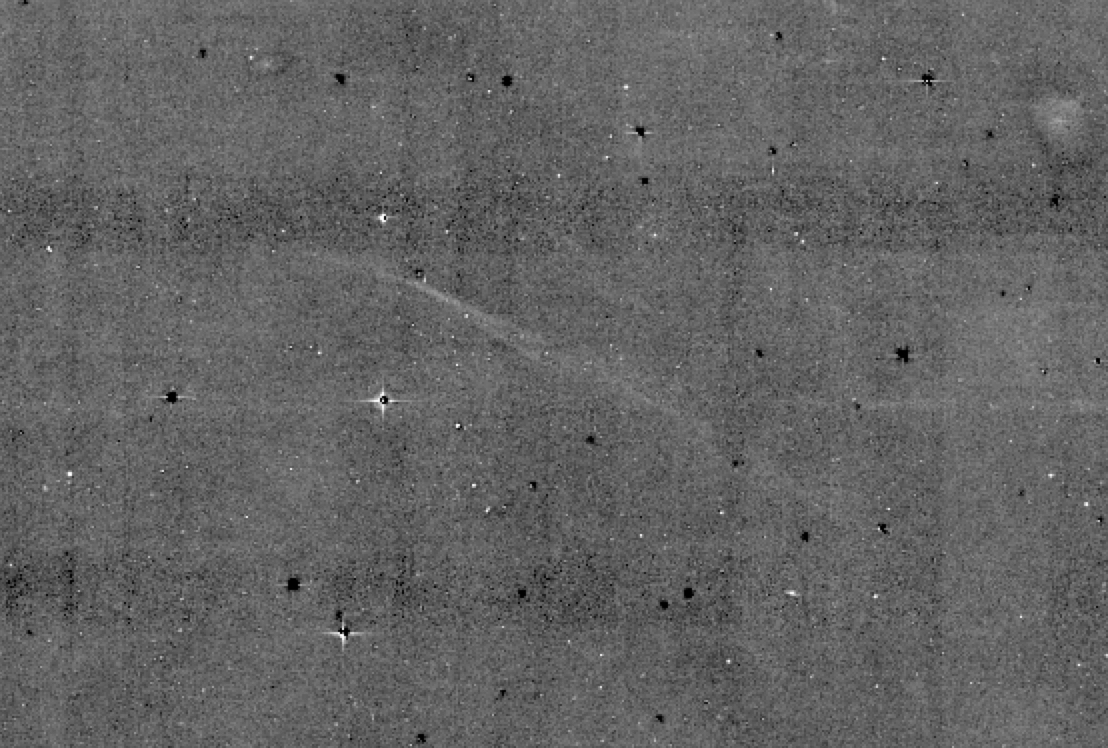Halpha: (233, 208, 893, 552), (479, 175, 789, 341)
